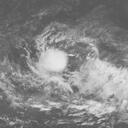cyclone: (38, 47, 70, 74)
